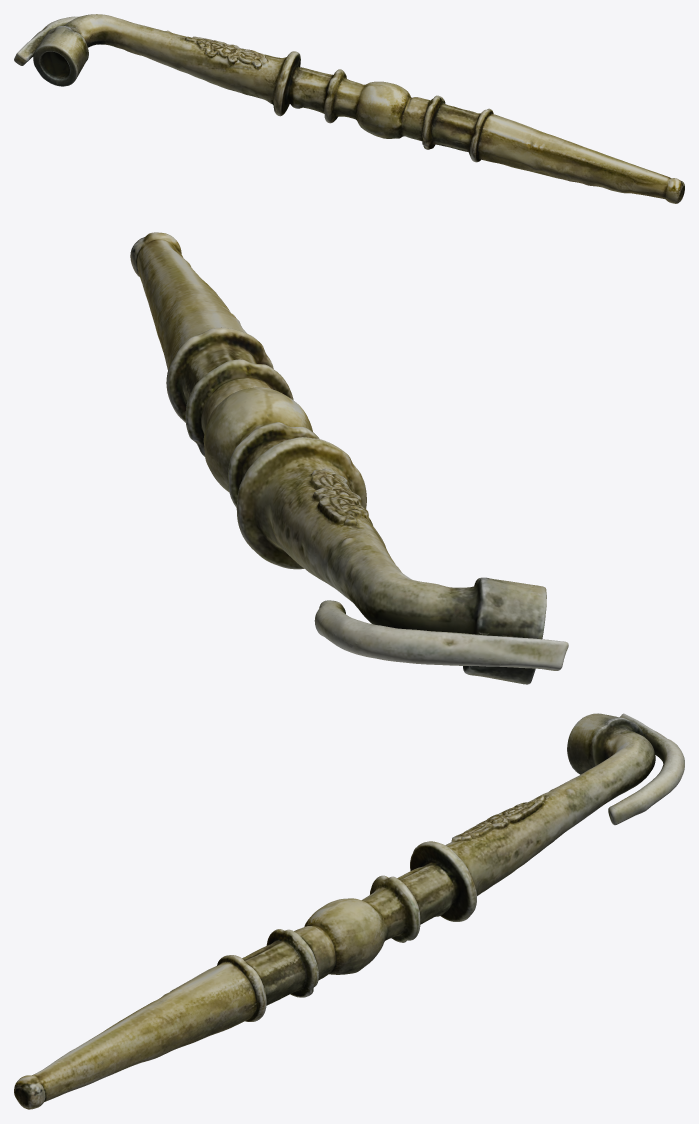
The model's file is antique brass syringe.fbx.
The picture shows the model from 3 angles, top to bottom: view 1: azimuth 30°, elevation 25°; view 2: azimuth 150°, elevation 25°; view 3: azimuth 270°, elevation 25°; orthographic projection. The views are drawn at different scales.
Visible parts, largest first — view 1: tripo_node_9c1f041a; view 2: tripo_node_9c1f041a; view 3: tripo_node_9c1f041a.
Boxes of the visible parts, left/top/right/bottom form: tripo_node_9c1f041a: left=14, top=14, right=684, bottom=203; tripo_node_9c1f041a: left=130, top=232, right=568, bottom=684; tripo_node_9c1f041a: left=14, top=713, right=684, bottom=1109.
Size of the model in its own units: 97.89 by 97.73 by 22.63.
1 material, 1 textured.
